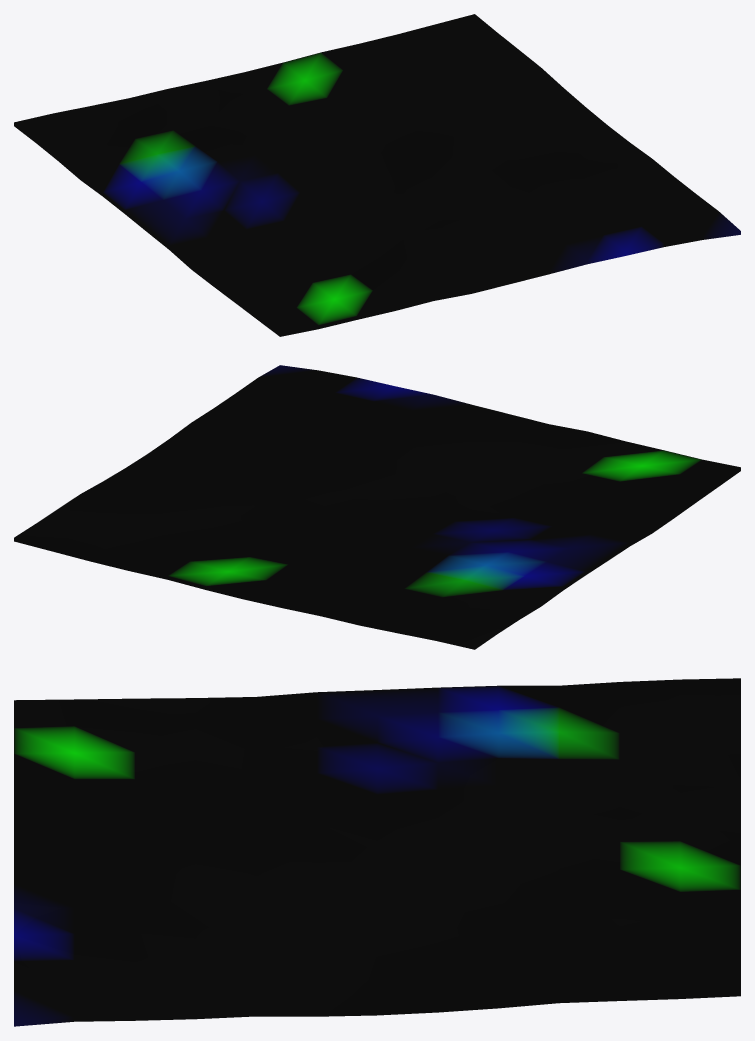
Rendered from coast_19_5.glb.
3 renders of one model, top to bottom at view 1: azimuth 30°, elevation 25°; view 2: azimuth 150°, elevation 25°; view 3: azimuth 270°, elevation 25°, orthographic. The views are drawn at different scales.
Parts seen in each view (by area): view 1: terrain; view 2: terrain; view 3: terrain.
Boxes of the visible parts, box(x1,y1,x2,y2) form: terrain: box(14, 14, 740, 336); terrain: box(14, 365, 740, 649); terrain: box(14, 678, 740, 1026).
Bounding box in the file's own units: 192 × 11.97 × 192.
